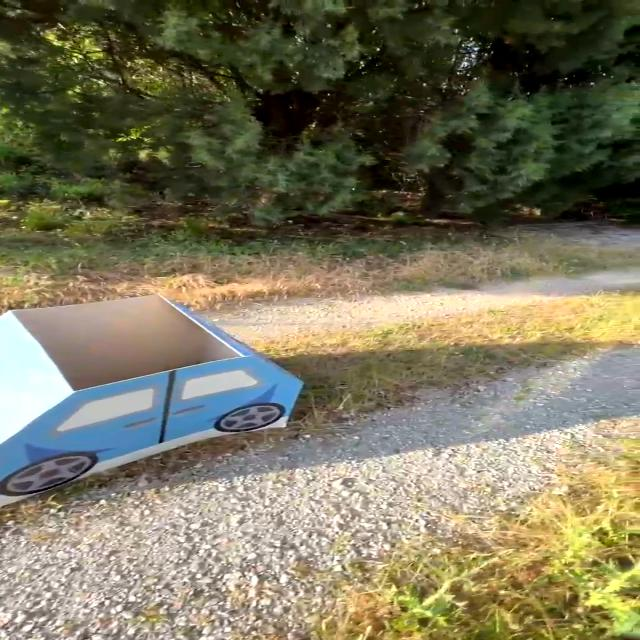blue_car: (0, 267, 341, 515)
